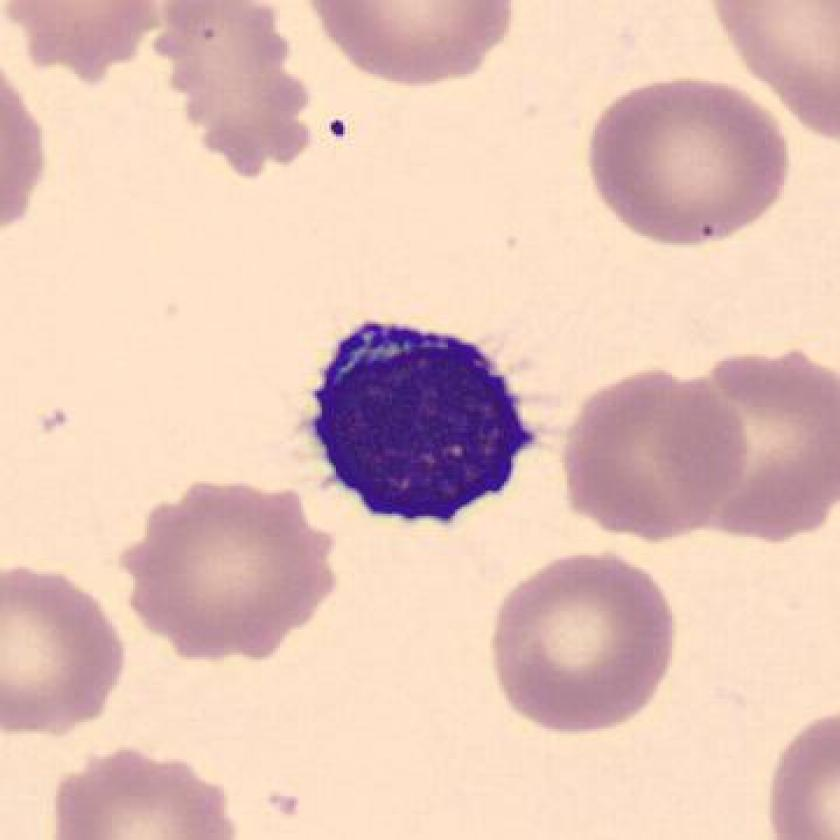lymphocyte: (286, 307, 554, 543)
